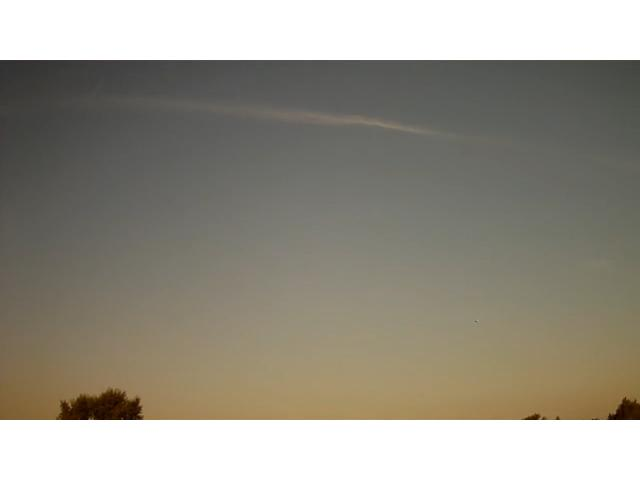Anti-Drone: (469, 318, 488, 329)
